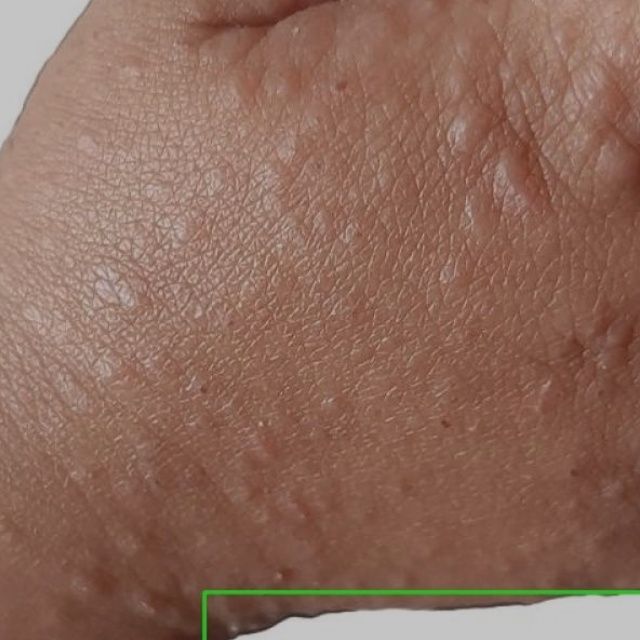Contact Dermatitis: (204, 592, 639, 639)
